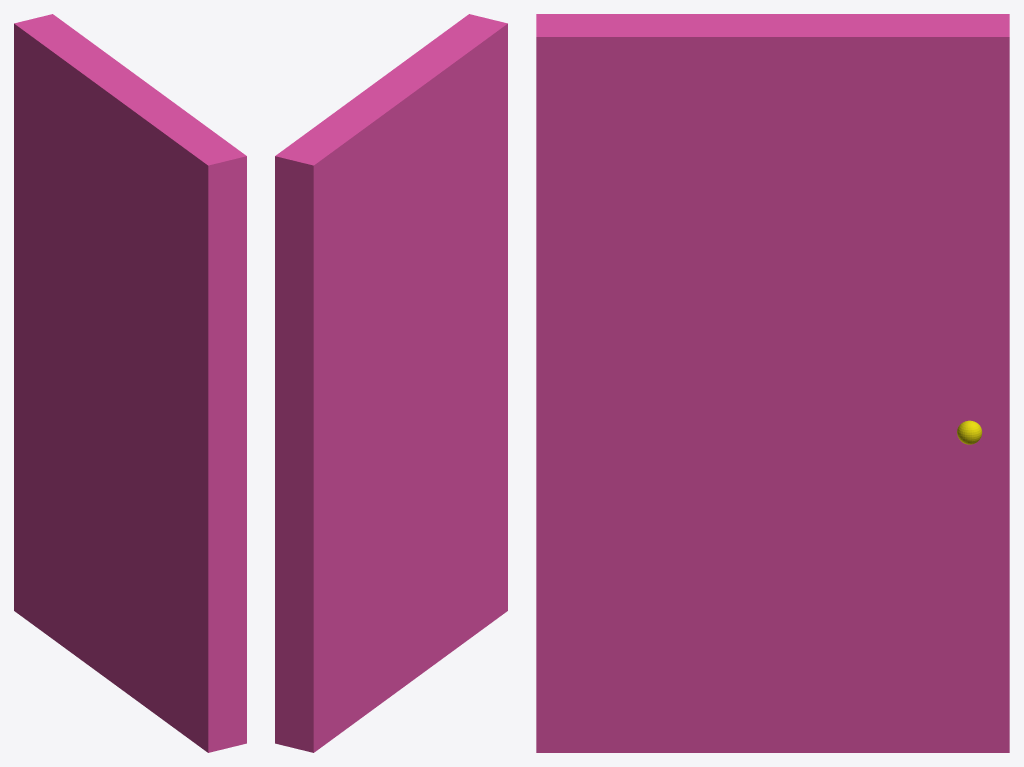
File: PurtaAltar.fbx
3 views of the same model, side by side, from view 1: azimuth 30°, elevation 25°; view 2: azimuth 150°, elevation 25°; view 3: azimuth 270°, elevation 25° (orthographic). The views are drawn at different scales.
Visible parts, largest first — view 1: Sphere; view 2: Sphere; view 3: Sphere.
Boxes of the visible parts, <box> form: Sphere: <box>14,14,246,752</box>; Sphere: <box>275,14,507,752</box>; Sphere: <box>536,14,1009,752</box>.
Size of the model in its own units: 86.68 by 1018 by 610.
